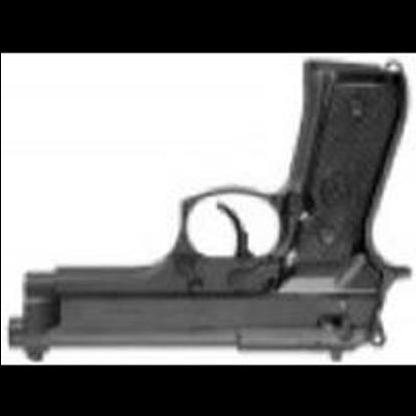weapon: (4, 58, 412, 362)
